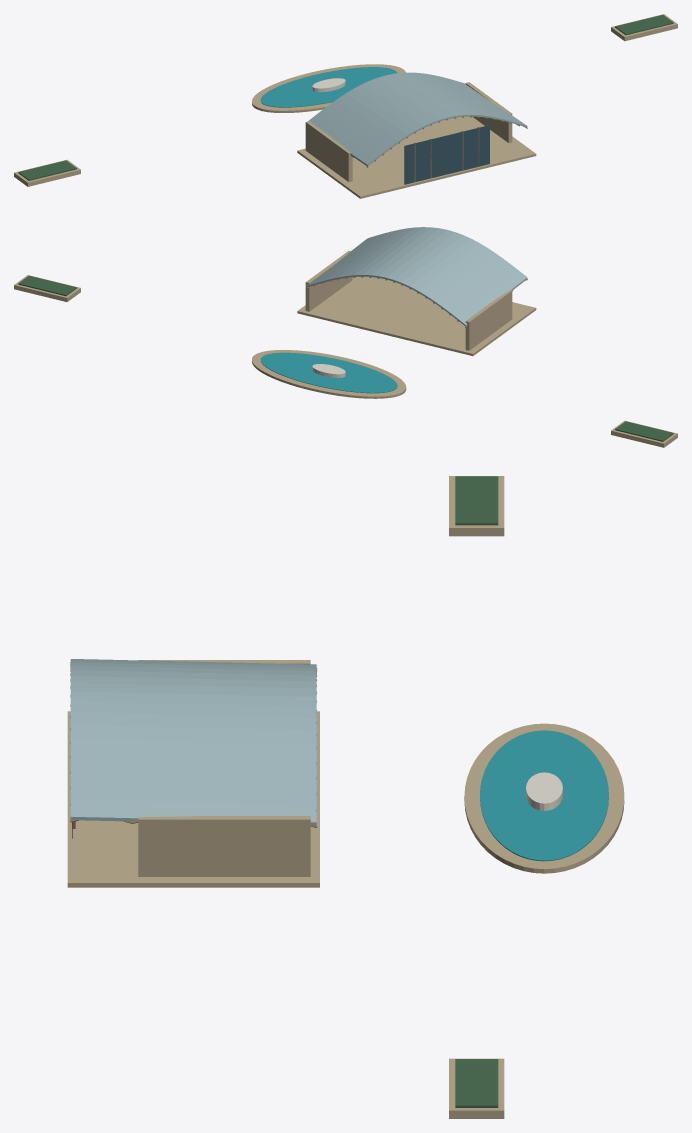
Rendered from KOL_T1_JW__Arrival.fbx.
3 views of the same model, one above another, from view 1: azimuth 30°, elevation 25°; view 2: azimuth 150°, elevation 25°; view 3: azimuth 270°, elevation 25° (orthographic). The views are drawn at different scales.
Parts seen in each view (by area): view 1: KOL_T1_JW__Arrival__KOL_T1_GlassLight, KOL_T1_JW__Arrival__KOL_T1_Stone, KOL_T1_JW__Arrival__KOL_T1_Glass, KOL_T1_JW__Arrival__KOL_T1_Water, KOL_T1_JW__Arrival__KOL_T1_Leaf, KOL_T1_JW__Arrival__KOL_T1_Bronze, KOL_T1_JW__Arrival__KOL_T1_Pearl; view 2: KOL_T1_JW__Arrival__KOL_T1_Stone, KOL_T1_JW__Arrival__KOL_T1_GlassLight, KOL_T1_JW__Arrival__KOL_T1_Water, KOL_T1_JW__Arrival__KOL_T1_Leaf, KOL_T1_JW__Arrival__KOL_T1_Pearl; view 3: KOL_T1_JW__Arrival__KOL_T1_GlassLight, KOL_T1_JW__Arrival__KOL_T1_Stone, KOL_T1_JW__Arrival__KOL_T1_Water, KOL_T1_JW__Arrival__KOL_T1_Leaf, KOL_T1_JW__Arrival__KOL_T1_Pearl.
Part boxes in pixels (x1=…): KOL_T1_JW__Arrival__KOL_T1_GlassLight: x1=308, y1=72, x2=527, y2=166; KOL_T1_JW__Arrival__KOL_T1_Stone: x1=14, y1=14, x2=677, y2=198; KOL_T1_JW__Arrival__KOL_T1_Glass: x1=404, y1=125, x2=489, y2=184; KOL_T1_JW__Arrival__KOL_T1_Water: x1=260, y1=67, x2=397, y2=107; KOL_T1_JW__Arrival__KOL_T1_Leaf: x1=18, y1=15, x2=673, y2=180; KOL_T1_JW__Arrival__KOL_T1_Bronze: x1=351, y1=116, x2=527, y2=182; KOL_T1_JW__Arrival__KOL_T1_Pearl: x1=312, y1=78, x2=345, y2=92; KOL_T1_JW__Arrival__KOL_T1_Stone: x1=14, y1=251, x2=677, y2=447; KOL_T1_JW__Arrival__KOL_T1_GlassLight: x1=306, y1=227, x2=527, y2=326; KOL_T1_JW__Arrival__KOL_T1_Water: x1=260, y1=352, x2=397, y2=393; KOL_T1_JW__Arrival__KOL_T1_Leaf: x1=18, y1=275, x2=673, y2=441; KOL_T1_JW__Arrival__KOL_T1_Pearl: x1=312, y1=364, x2=345, y2=377; KOL_T1_JW__Arrival__KOL_T1_GlassLight: x1=70, y1=659, x2=316, y2=825; KOL_T1_JW__Arrival__KOL_T1_Stone: x1=67, y1=476, x2=624, y2=1118; KOL_T1_JW__Arrival__KOL_T1_Water: x1=480, y1=730, x2=608, y2=861; KOL_T1_JW__Arrival__KOL_T1_Leaf: x1=455, y1=476, x2=498, y2=1107; KOL_T1_JW__Arrival__KOL_T1_Pearl: x1=526, y1=772, x2=562, y2=810.
Bounding box in the file's own units: 244 × 21.28 × 90.5.
